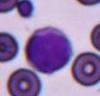M: (24, 26, 72, 74)
